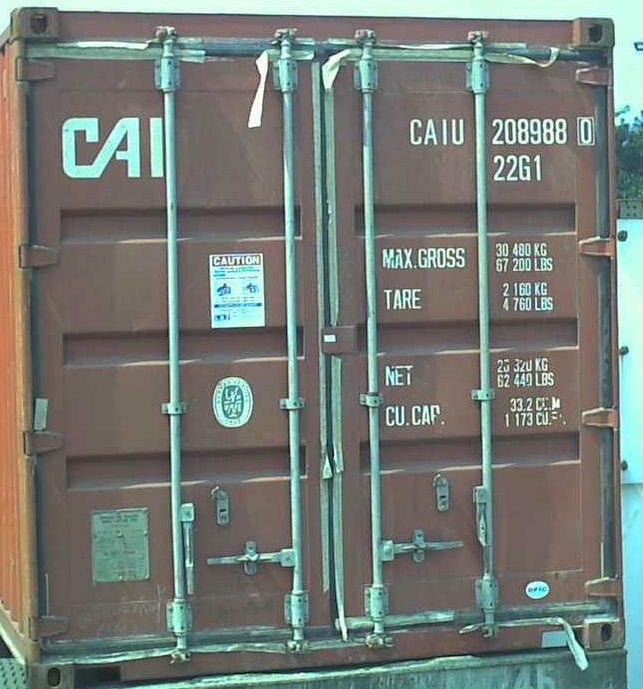container_door: (11, 4, 624, 685)
